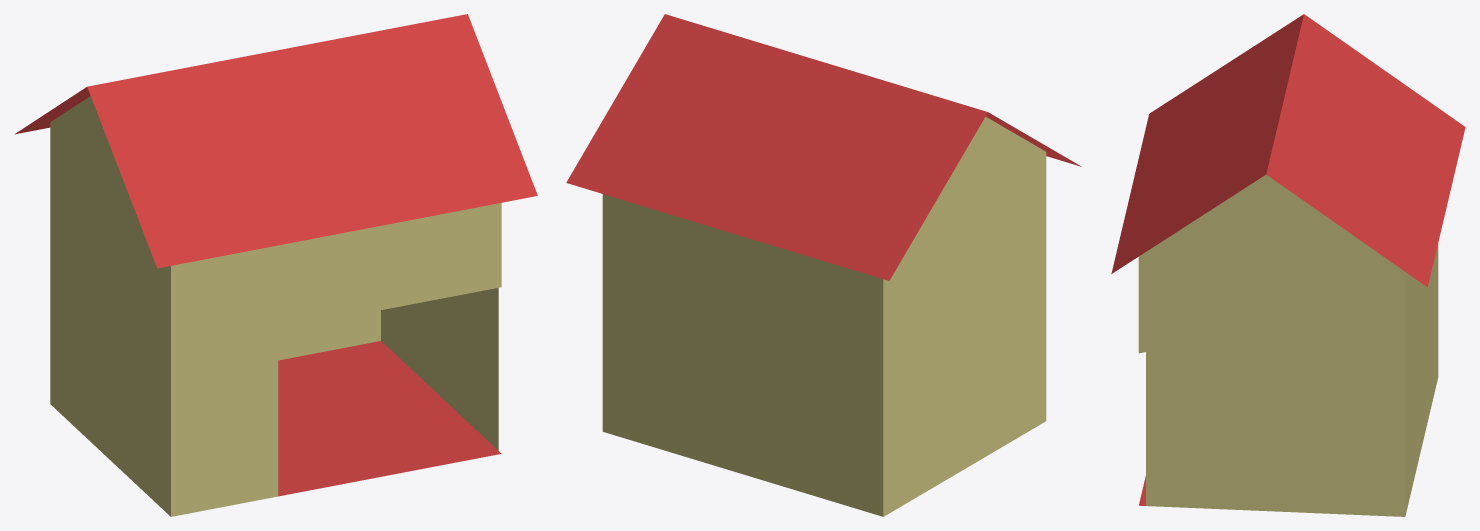
The picture shows the model from 3 angles, left to right: view 1: azimuth 30°, elevation 25°; view 2: azimuth 150°, elevation 25°; view 3: azimuth 270°, elevation 25°; orthographic projection. The views are drawn at different scales.
Bounding box in the file's own units: 12.35 × 10.64 × 11.5.
